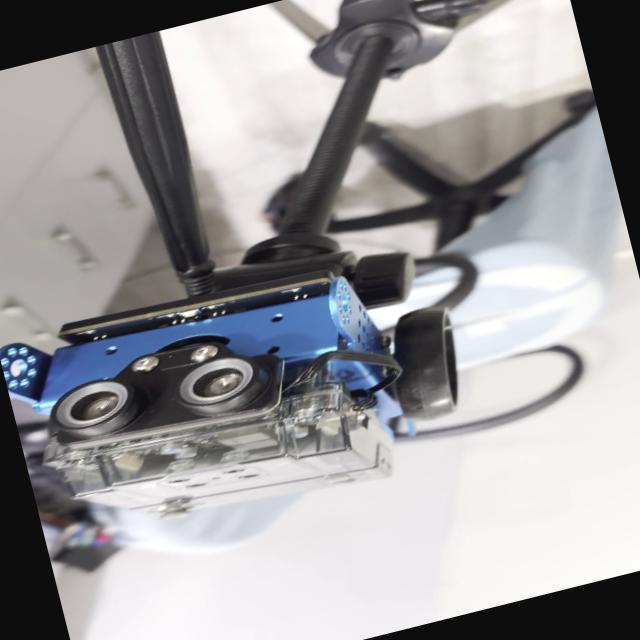mbot-detection: (0, 210, 509, 569)
